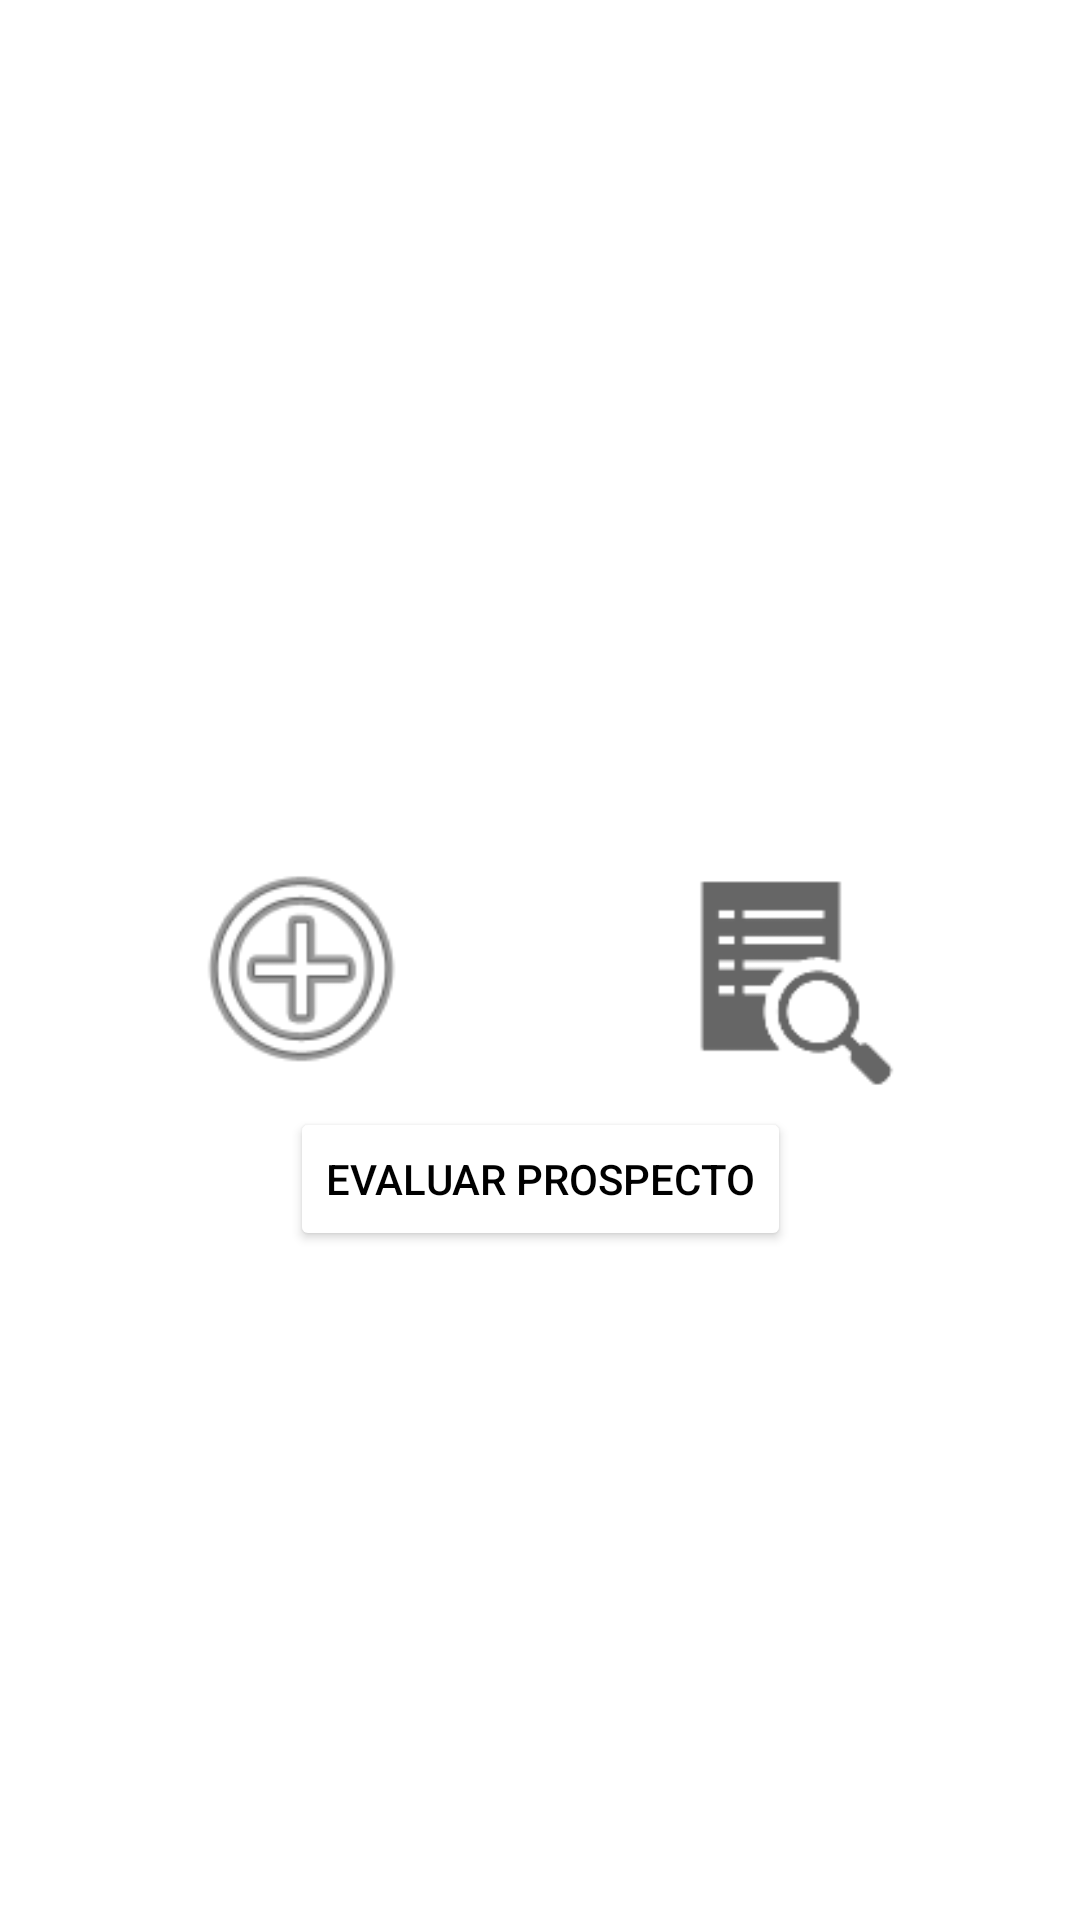

Screen size 1080*1920. Icon name, then its center in pixels as [x,y]:
add: [301,968]
